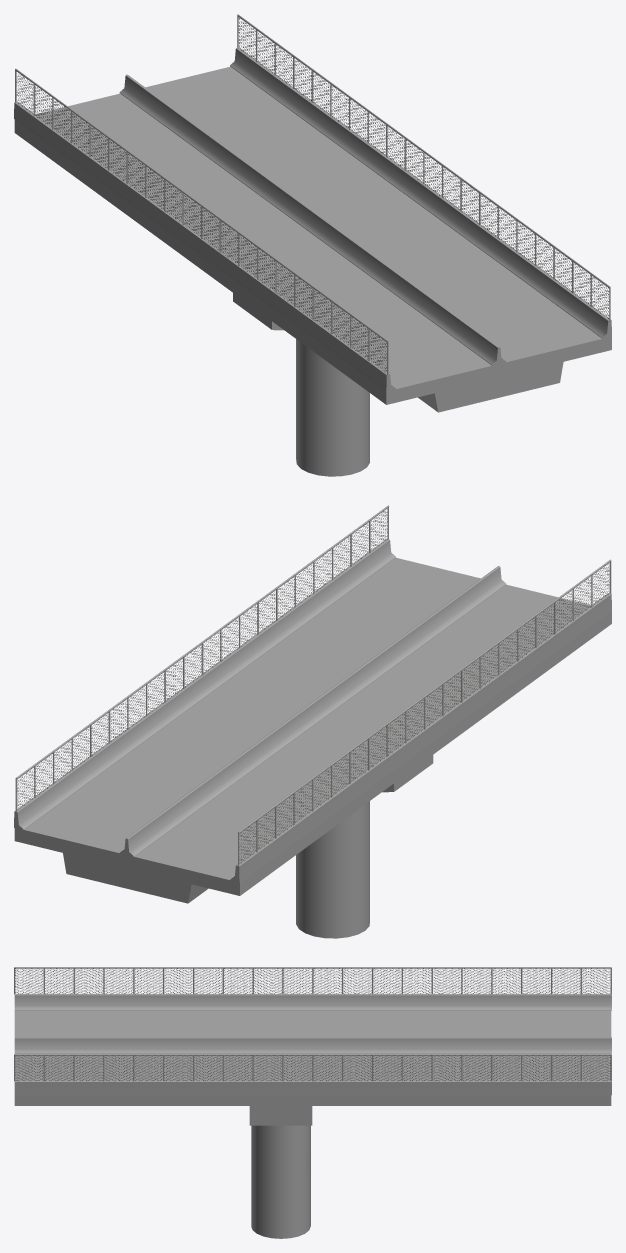
File: highway.fbx
3 views of the same model, one above another, from view 1: azimuth 30°, elevation 25°; view 2: azimuth 150°, elevation 25°; view 3: azimuth 270°, elevation 25° (orthographic). The views are drawn at different scales.
Parts seen in each view (by area): view 1: Road_base, Barrier_left1, Barrier_middle, pCylinder3, Barrier_left, pCube3, pCube2, Road_base1, fence_post21 (×2); view 2: Road_base, Barrier_left1, Barrier_middle, pCylinder3, Barrier_left, pCube3, pCube2, Road_base1, fence_post21 (×2); view 3: Road_base, Barrier_middle, Barrier_left, Barrier_left1, pCube2, pCube3, pCylinder3, fence_post21 (×2), Road_base3.
Boxes of the visible parts, <box> form: Road_base: <box>14,66,611,404</box>; Barrier_left1: <box>230,47,611,338</box>; Barrier_middle: <box>119,74,506,365</box>; pCylinder3: <box>296,339,369,476</box>; Barrier_left: <box>14,101,395,391</box>; pCube3: <box>238,17,608,318</box>; pCube2: <box>16,71,386,372</box>; Road_base1: <box>418,362,563,412</box>; fence_post21 (×2): <box>15,14,610,341</box>; Road_base: <box>14,557,611,895</box>; Barrier_left1: <box>14,539,395,830</box>; Barrier_middle: <box>119,566,506,856</box>; pCylinder3: <box>296,801,369,938</box>; Barrier_left: <box>230,593,611,882</box>; pCube3: <box>17,511,387,809</box>; pCube2: <box>239,563,610,863</box>; Road_base1: <box>63,853,208,903</box>; fence_post21 (×2): <box>16,505,611,833</box>; Road_base: <box>14,1010,611,1105</box>; Barrier_middle: <box>14,1037,611,1053</box>; Barrier_left: <box>14,994,611,1010</box>; Barrier_left1: <box>14,1080,611,1095</box>; pCube2: <box>14,968,610,994</box>; pCube3: <box>15,1055,610,1081</box>; pCylinder3: <box>251,1125,310,1238</box>; fence_post21 (×2): <box>14,967,611,1055</box>; Road_base3: <box>249,1106,312,1125</box>.
Size of the model in its own units: 14.01 by 15.95 by 40.09.
